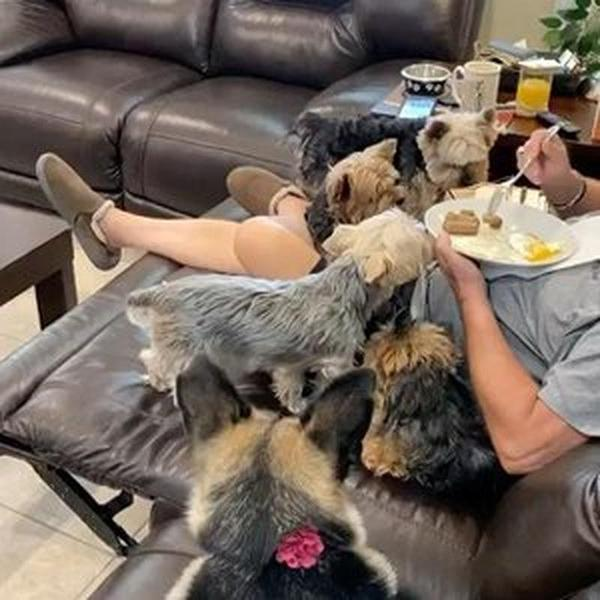allqu: (102, 205, 446, 378), (293, 90, 508, 191)
